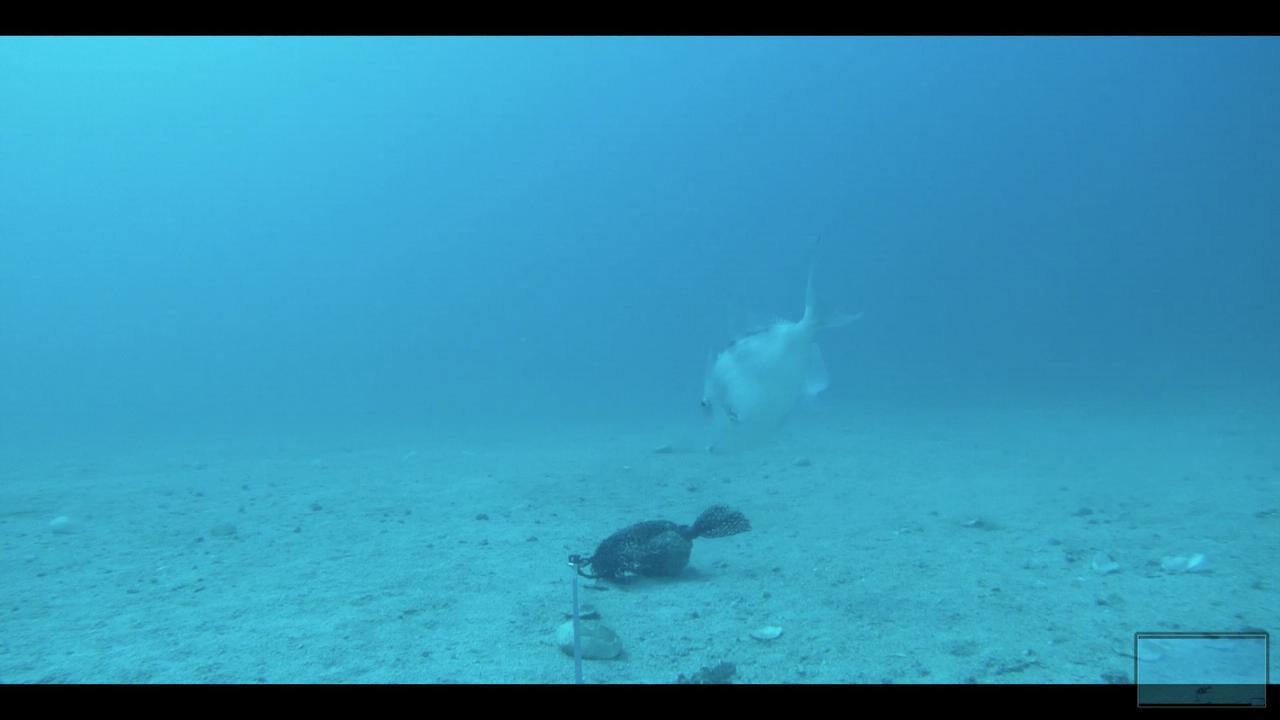balistes: (692, 240, 866, 460)
